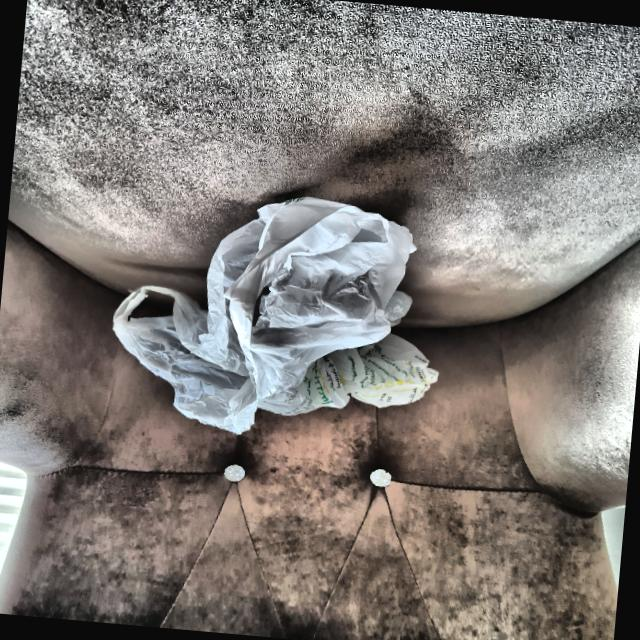plastic bag: (103, 184, 452, 453)
